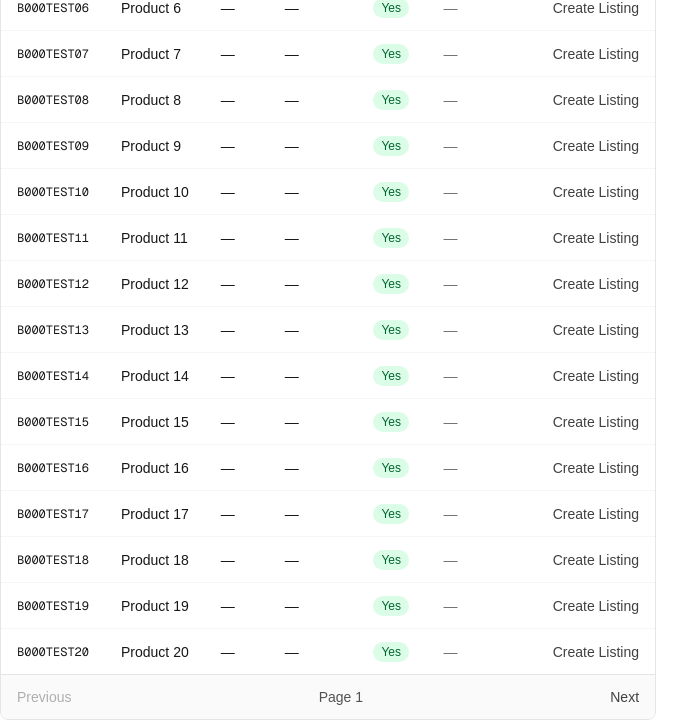
ProductsPage › navigates to next page
(page scrolled)
Step 1. Click the button "Next" → (625, 697), box [610,687,639,707]
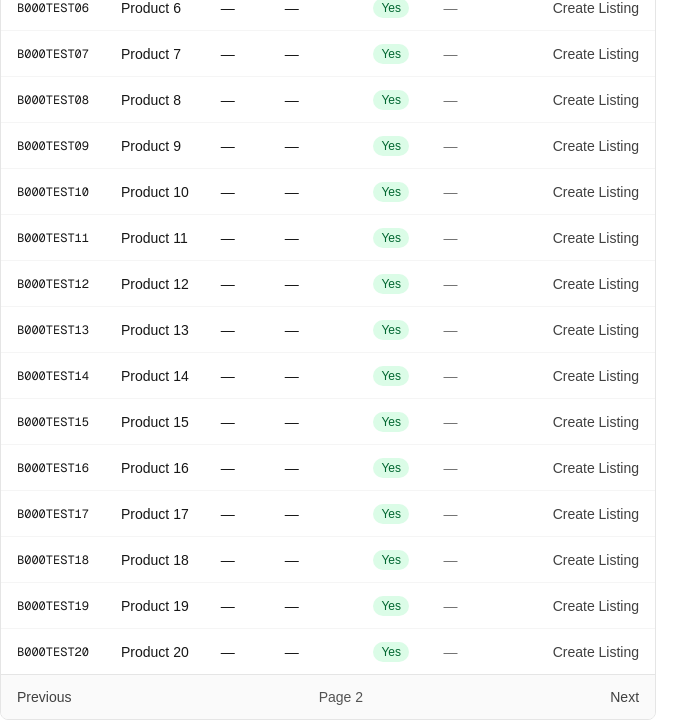
Expected: the text "Page 2" is shown, [319,687,363,707]
